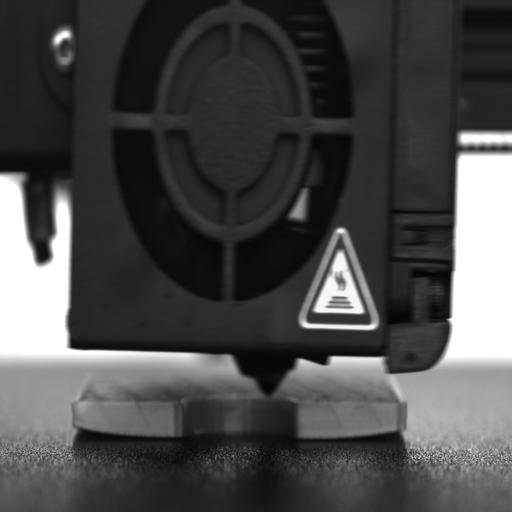warp: (290, 394, 406, 438), (72, 398, 180, 436)
